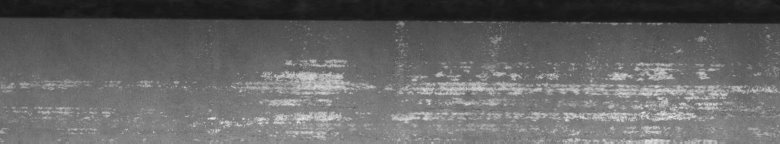kb: (119, 16, 776, 126)
